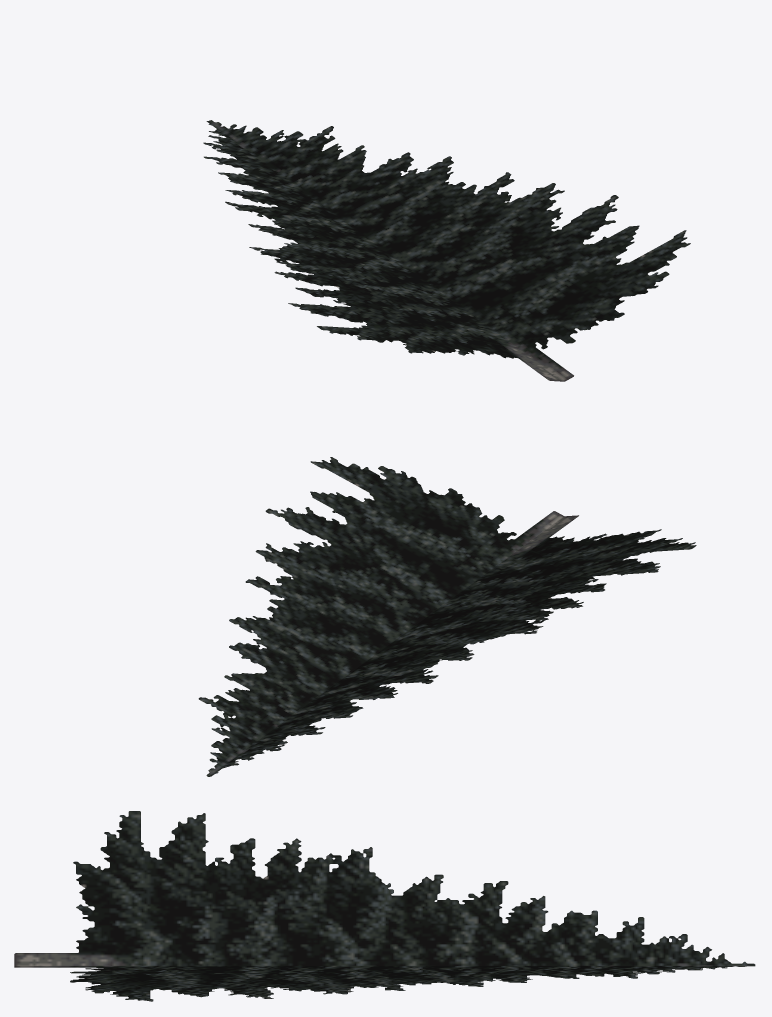
File: SM_EC_Tree_Card_Bent_01.fbx
3 renders of one model, top to bottom at view 1: azimuth 30°, elevation 25°; view 2: azimuth 150°, elevation 25°; view 3: azimuth 270°, elevation 25°, orthographic. The views are drawn at different scales.
Visible parts, largest first — view 1: SM_EC_Tree_Card_Bent_01; view 2: SM_EC_Tree_Card_Bent_01; view 3: SM_EC_Tree_Card_Bent_01.
Part boxes in pixels (x1,y1,x2,y2): SM_EC_Tree_Card_Bent_01: [203, 120, 690, 381]; SM_EC_Tree_Card_Bent_01: [198, 457, 696, 776]; SM_EC_Tree_Card_Bent_01: [14, 811, 755, 1001].
Size of the model in its own units: 2.35 by 3.76 by 0.3418.
